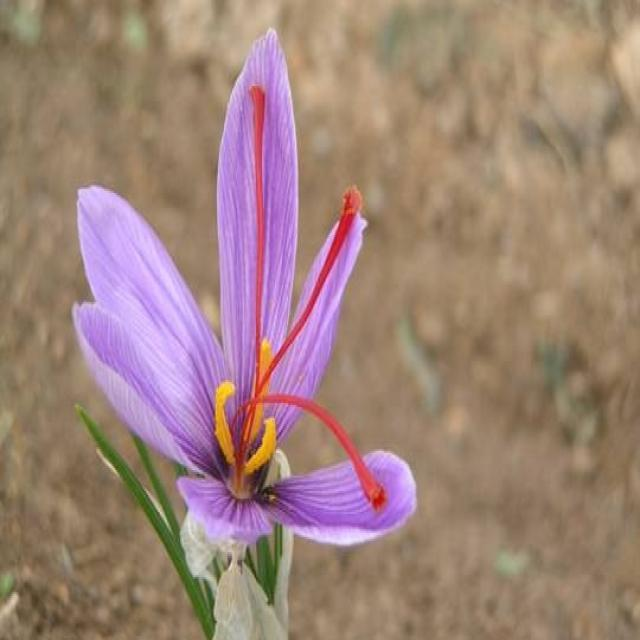Flower: (76, 26, 416, 544)
stigma: (256, 184, 366, 391), (253, 392, 393, 514), (247, 80, 271, 397)
